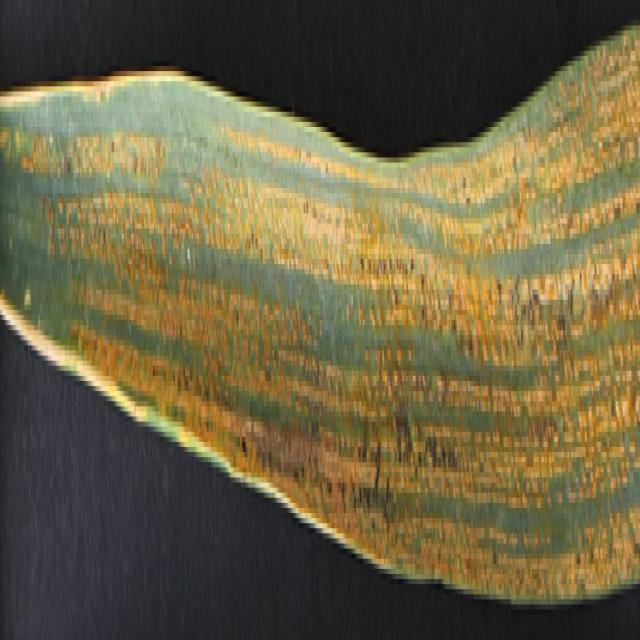leaf rust: (21, 36, 640, 604)
